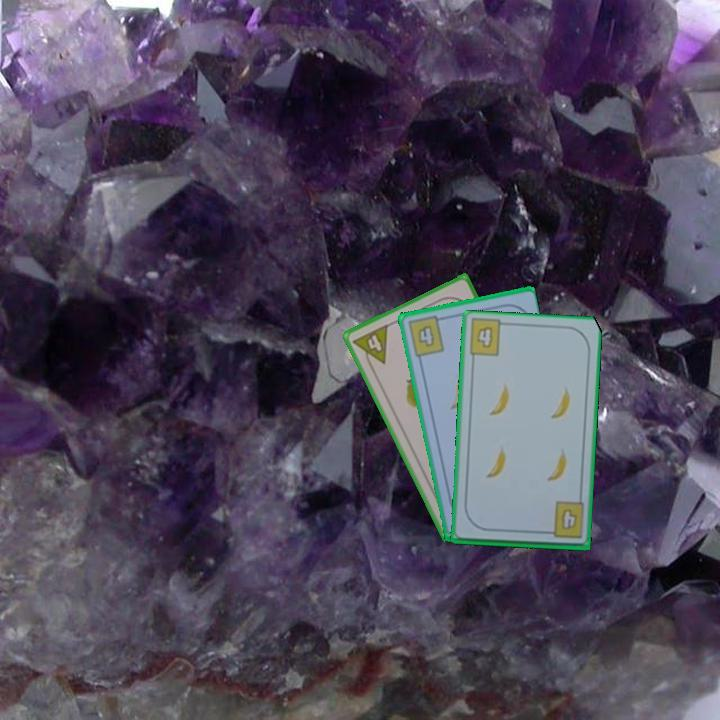4b: (404, 313, 447, 360), (541, 499, 584, 541), (473, 323, 495, 350)
4p: (349, 320, 391, 372)
